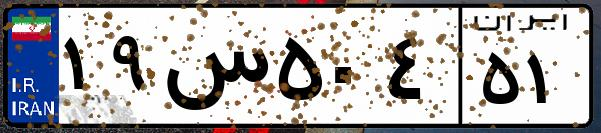0: (330, 28, 385, 110)
1: (57, 26, 110, 100), (525, 38, 570, 115)
4: (385, 28, 445, 110)
5: (270, 28, 330, 110), (475, 38, 525, 113)
9: (110, 28, 158, 98)
س: (158, 20, 270, 120)
